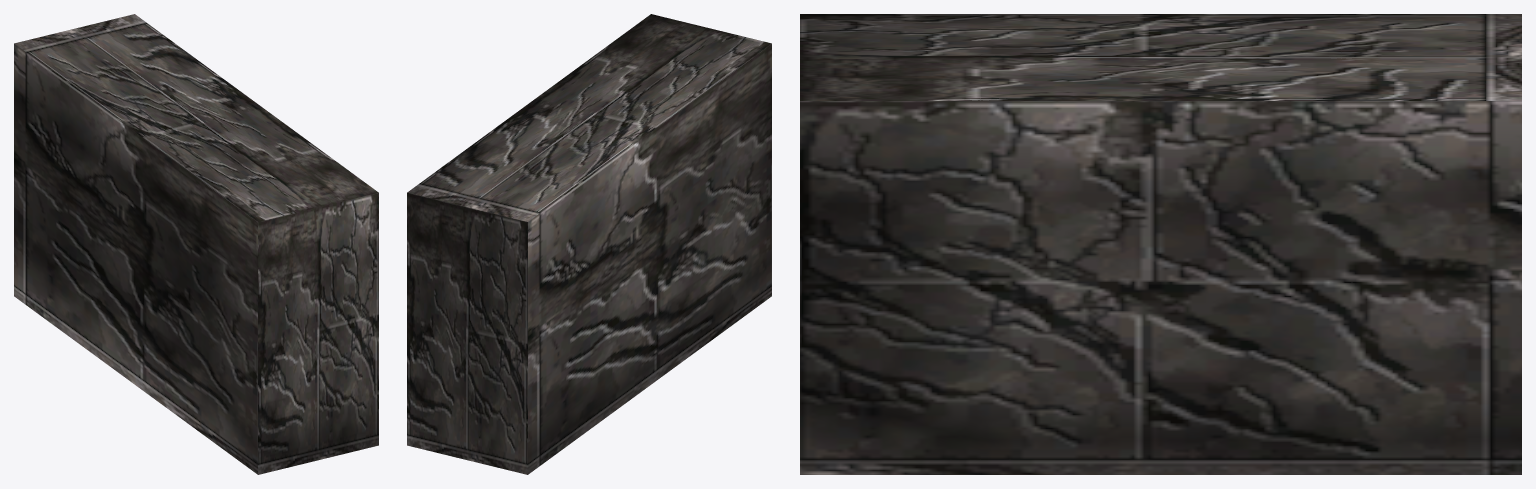
Rendered from INST_SM_DEBRIS_BLOCK_LARGEA.fbx.
3 views of the same model, side by side, from view 1: azimuth 30°, elevation 25°; view 2: azimuth 150°, elevation 25°; view 3: azimuth 270°, elevation 25° (orthographic). The views are drawn at different scales.
Parts seen in each view (by area): view 1: INST_SM_DEBRIS_BLOCK_LARGEA; view 2: INST_SM_DEBRIS_BLOCK_LARGEA; view 3: INST_SM_DEBRIS_BLOCK_LARGEA.
Boxes of the visible parts, left/top/right/bottom form: INST_SM_DEBRIS_BLOCK_LARGEA: left=14, top=14, right=378, bottom=474; INST_SM_DEBRIS_BLOCK_LARGEA: left=407, top=14, right=771, bottom=474; INST_SM_DEBRIS_BLOCK_LARGEA: left=800, top=14, right=1521, bottom=474.
Size of the model in its own units: 20000 by 40000 by 70000.
1 material, 1 textured.
